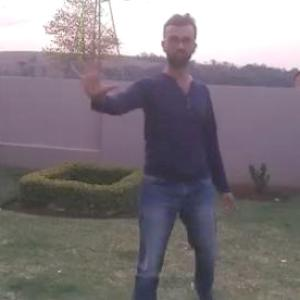follow_hand: (70, 49, 118, 102)
